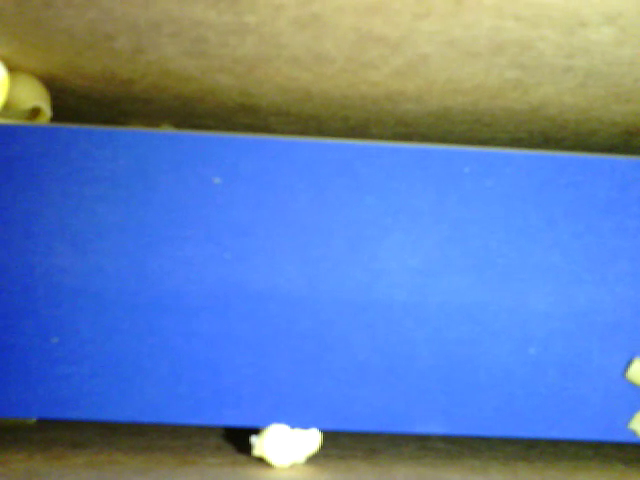shell: (3, 70, 56, 127)
